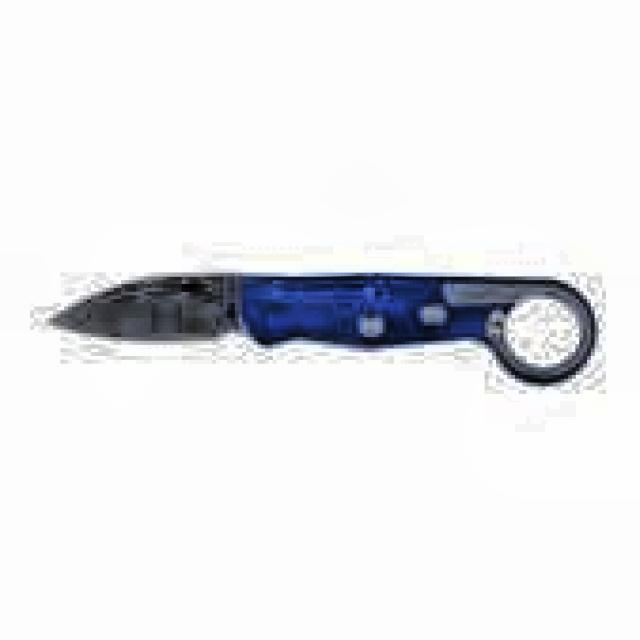knife: (50, 276, 598, 389)
